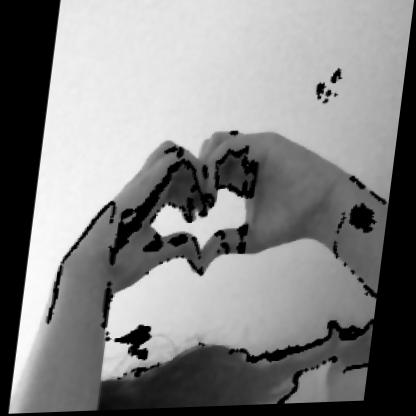heart: (51, 120, 361, 305)
